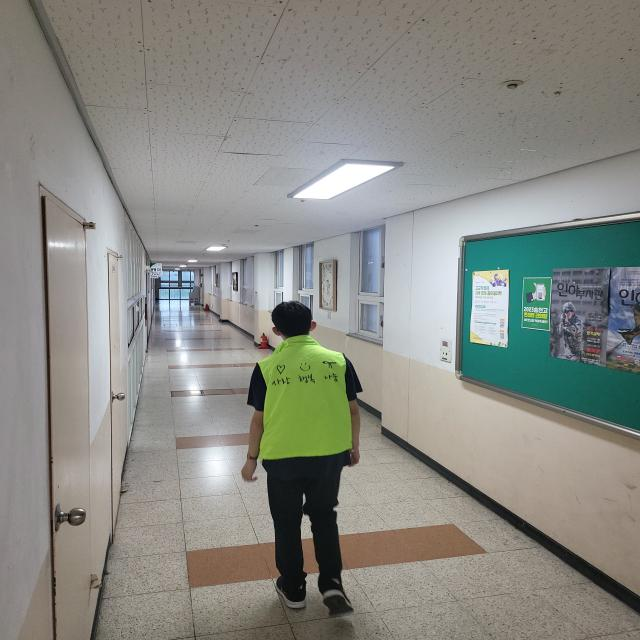weston_spy: (235, 339, 377, 476)
